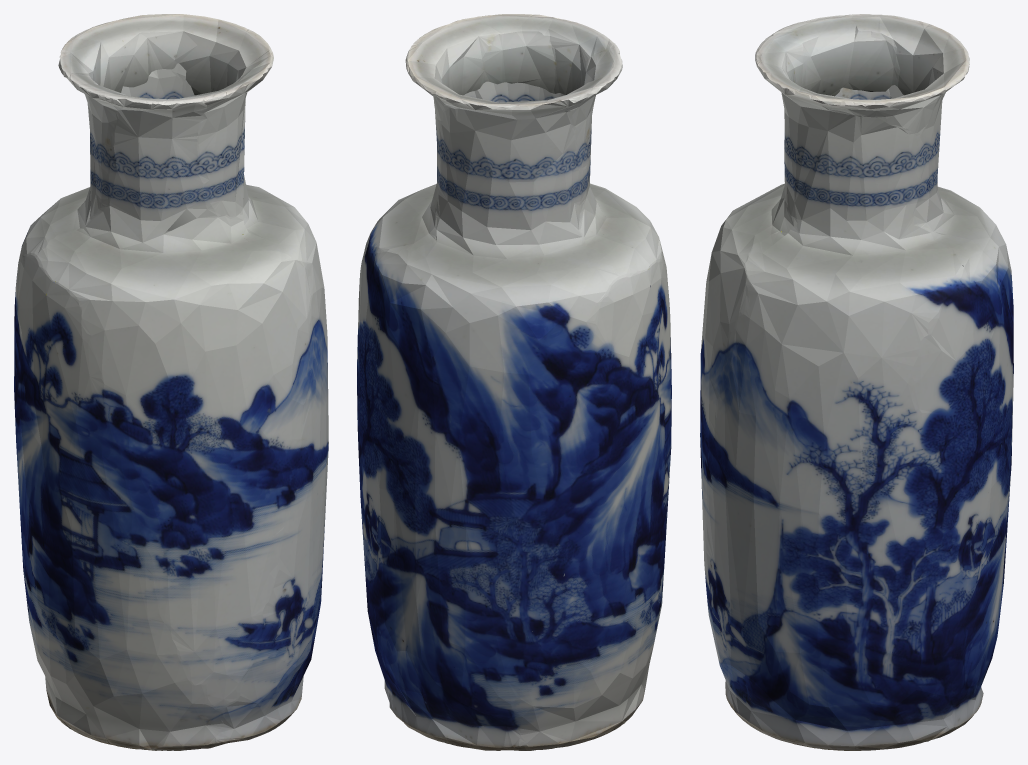
Rendered from vase_shattered.fbx.
The picture shows the model from 3 angles, left to right: view 1: azimuth 30°, elevation 25°; view 2: azimuth 150°, elevation 25°; view 3: azimuth 270°, elevation 25°; orthographic projection.
Parts seen in each view (by area): view 1: shard4, shard5, shard3, shard1; view 2: shard3, shard2, shard4, shard5; view 3: shard3, shard4, shard2, shard1, shard5.
Boxes of the visible parts, <box> form: shard4: <box>16,387,328,750</box>; shard5: <box>20,238,320,519</box>; shard3: <box>14,14,321,390</box>; shard1: <box>153,223,328,454</box>; shard3: <box>358,14,649,454</box>; shard2: <box>357,332,623,700</box>; shard4: <box>367,415,671,750</box>; shard5: <box>594,191,671,430</box>; shard3: <box>755,14,1013,387</box>; shard4: <box>700,450,988,750</box>; shard2: <box>787,332,1013,678</box>; shard1: <box>705,189,872,540</box>; shard5: <box>700,184,784,461</box>.
Size of the model in its own units: 0.116 by 0.2631 by 0.1163.
Materials: 2 (1 with a texture image).
